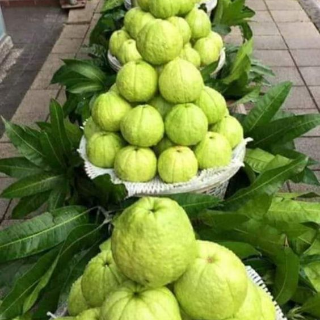oi: (112, 195, 193, 287), (159, 59, 202, 102), (121, 103, 163, 147), (139, 18, 179, 64), (117, 59, 155, 103), (167, 104, 207, 144), (159, 144, 198, 183), (116, 144, 156, 181)
